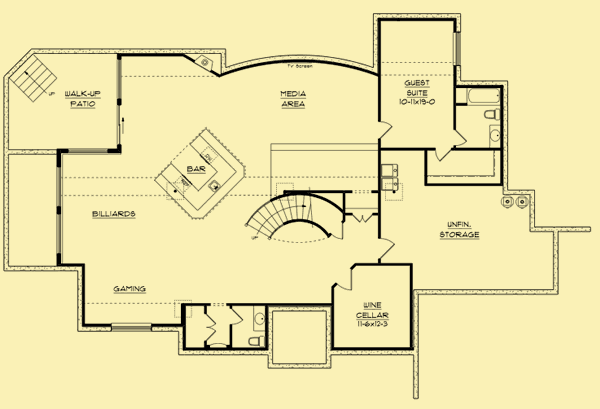door: (374, 235, 397, 262), (332, 264, 355, 291), (201, 312, 217, 342), (349, 209, 375, 226), (375, 117, 393, 141), (430, 145, 453, 163), (450, 127, 470, 147), (228, 306, 245, 327), (332, 220, 346, 244)
large sink: (243, 333, 269, 351), (482, 107, 504, 122)
small sink: (251, 304, 269, 332), (488, 122, 503, 148)
stairs: (242, 190, 324, 247), (11, 53, 59, 105)
tub: (465, 83, 502, 107)
windows: (53, 160, 65, 259), (106, 320, 157, 335), (111, 57, 127, 102), (66, 144, 111, 157), (450, 27, 463, 68)
